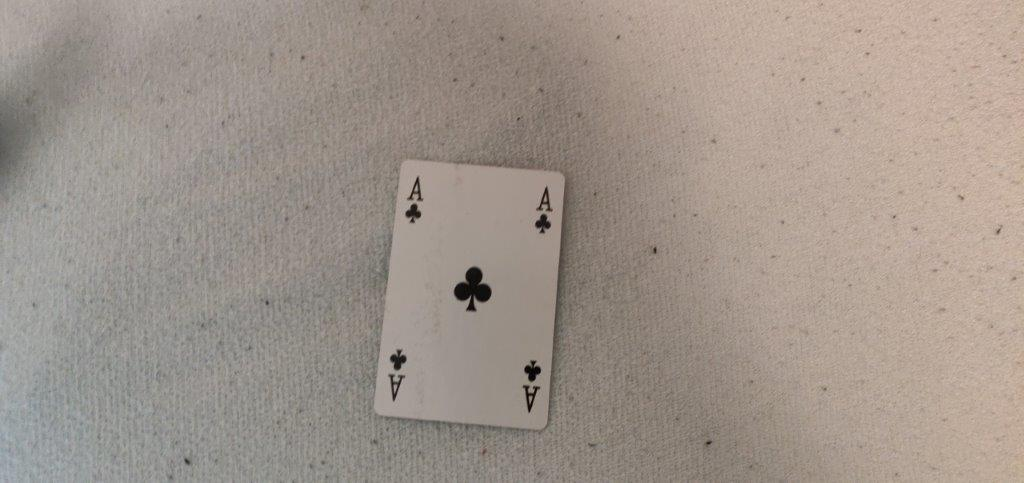AC: (402, 172, 429, 228), (532, 182, 555, 241)
